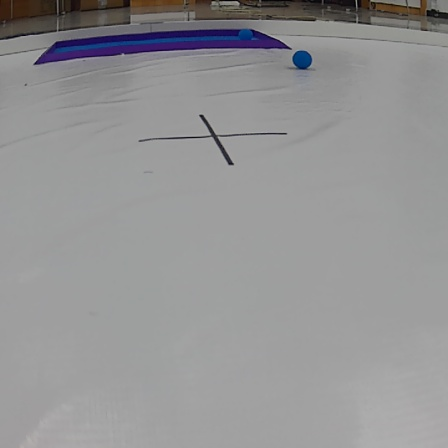blue: (291, 50, 317, 68), (235, 28, 257, 43)
blue_aim: (32, 29, 290, 63)
